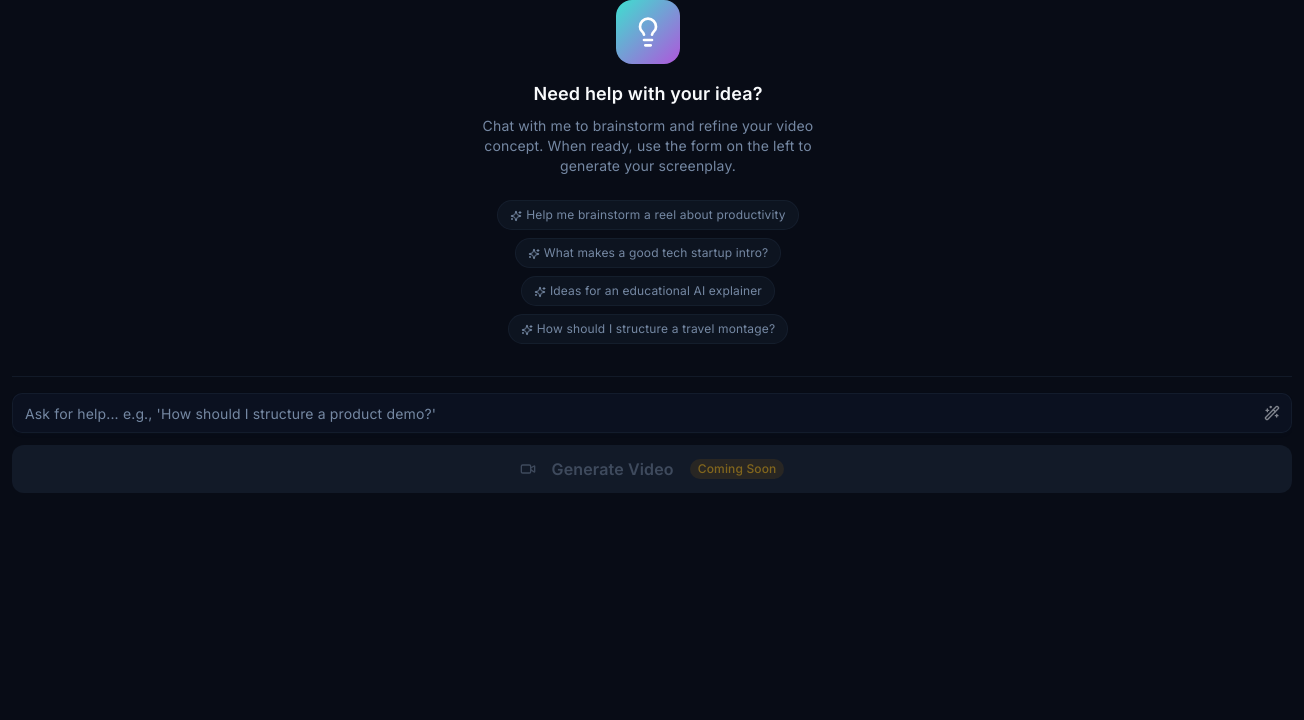
ChatPanel › Message sending › should add user message to chat when sent
The image size is (1304, 720).
In the field with placeholder "Ask for help": (652, 413) [12,393,1292,433], type "Test message"
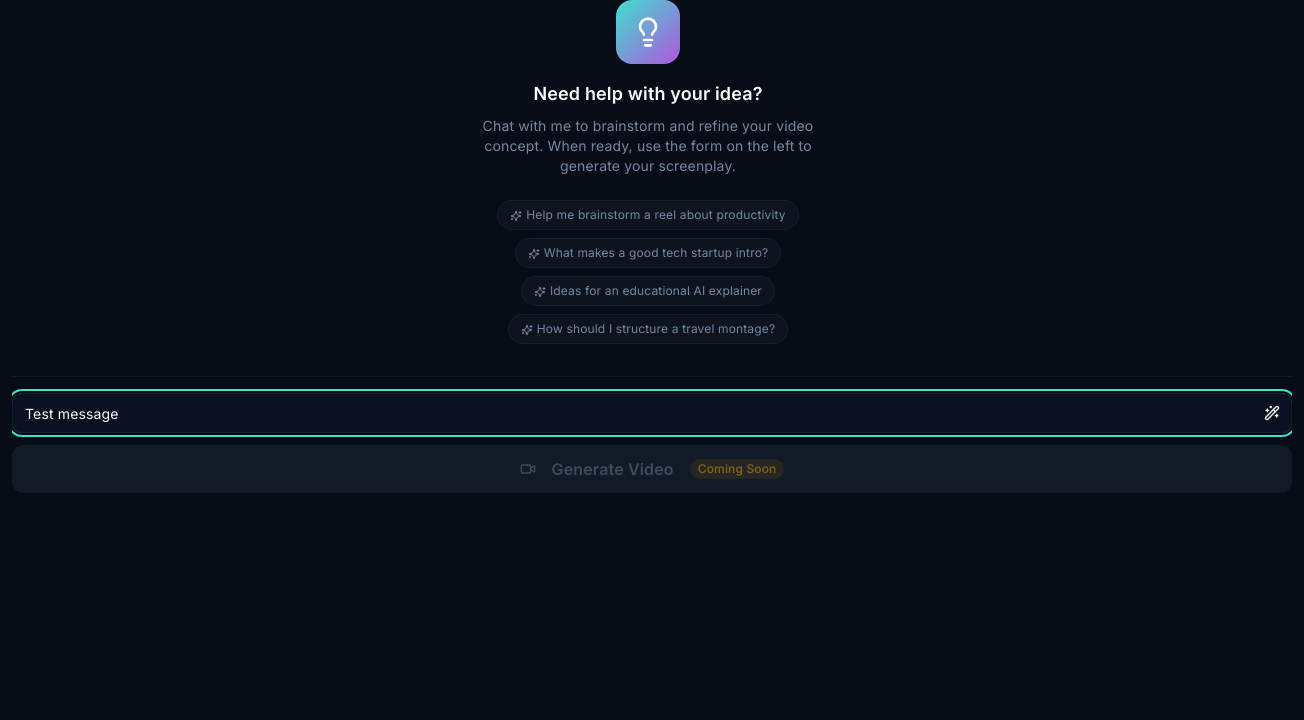
Press Enter
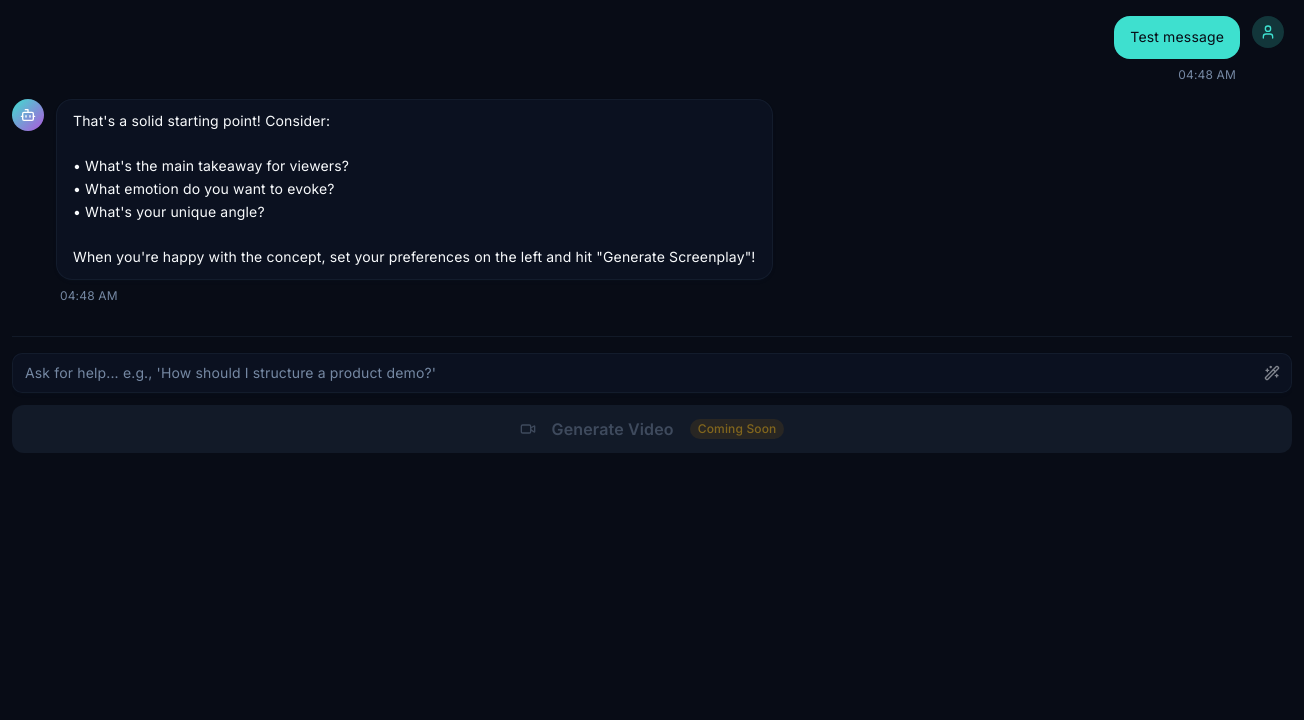
Result: the text "Test message" is shown at [1130,26,1224,49]
